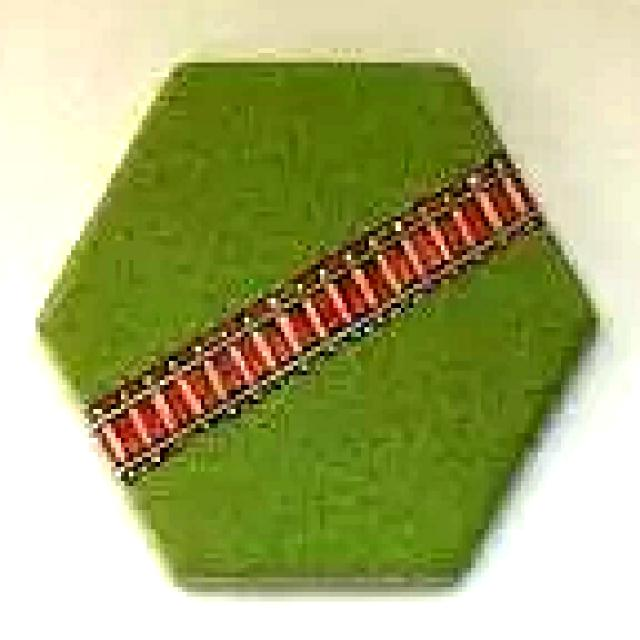3_0: (30, 57, 608, 601)
